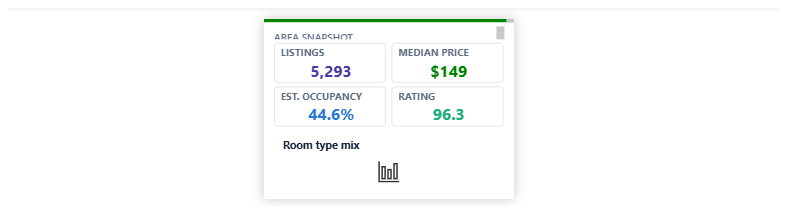

What the dashboard file says about the page in this screenshot:
{"tool":"powerbi","page":{"name":"Area snapshot (tooltip)","canvas":[250,180],"ordinal":4},"visuals":[{"type":"textbox","box":[0,0,250,180],"z":59},{"type":"textbox","box":[0,0,250,3],"z":60},{"type":"textbox","box":[10,7,230,13],"z":210},{"type":"card","title":"LISTINGS","fields":{"Values":["Listing.Total Listings"]},"box":[10,24,112,40],"z":211},{"type":"card","title":"MEDIAN PRICE","fields":{"Values":["Listing.Median Nightly Price"]},"box":[128,24,112,40],"z":212},{"type":"card","title":"EST. OCCUPANCY","fields":{"Values":["Listing.Est. Occupancy Rate"]},"box":[10,68,112,40],"z":213},{"type":"card","title":"RATING","fields":{"Values":["Listing.Avg Guest Rating"]},"box":[128,68,112,40],"z":214},{"type":"clusteredBarChart","title":"Room type mix","fields":{"Category":["Listing.Room Type"],"Y":["Listing.Total Listings"]},"box":[10,112,230,62],"z":215}]}

Visuals, with their boxes on the page's 250x180 design canvas (x1, y1, x2, y2). These are canvas units, not pixel positions in the 787x214 screenshot, which may show the page scaled, cropped or inside an application window:
textbox: <bbox>0, 0, 250, 180</bbox>
textbox: <bbox>0, 0, 250, 3</bbox>
textbox: <bbox>10, 7, 240, 20</bbox>
"LISTINGS" card: <bbox>10, 24, 122, 64</bbox>
"MEDIAN PRICE" card: <bbox>128, 24, 240, 64</bbox>
"EST. OCCUPANCY" card: <bbox>10, 68, 122, 108</bbox>
"RATING" card: <bbox>128, 68, 240, 108</bbox>
"Room type mix" clusteredBarChart: <bbox>10, 112, 240, 174</bbox>
